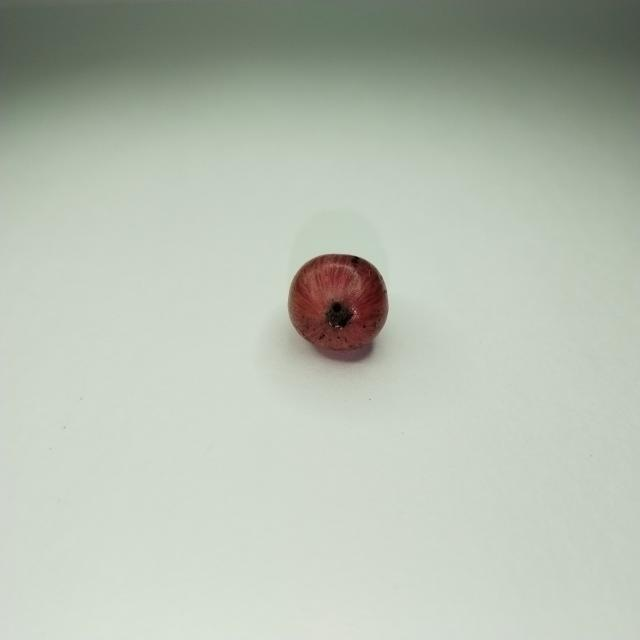Infectado: (289, 256, 389, 351)
